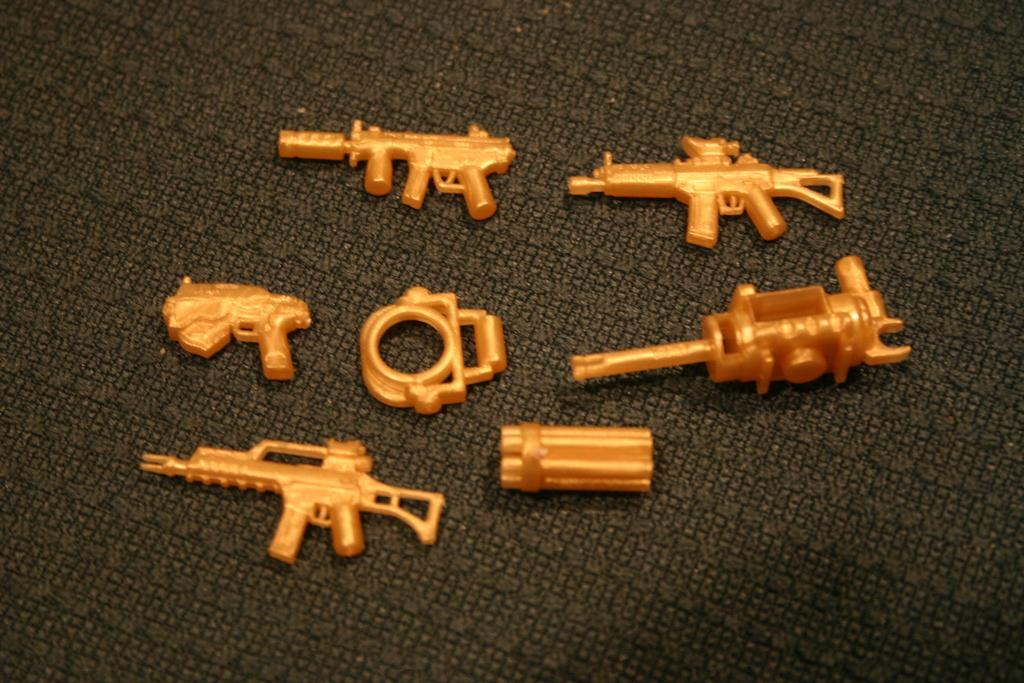Rifle: (132, 429, 446, 577), (569, 135, 847, 249), (279, 117, 518, 220), (159, 276, 312, 379)
